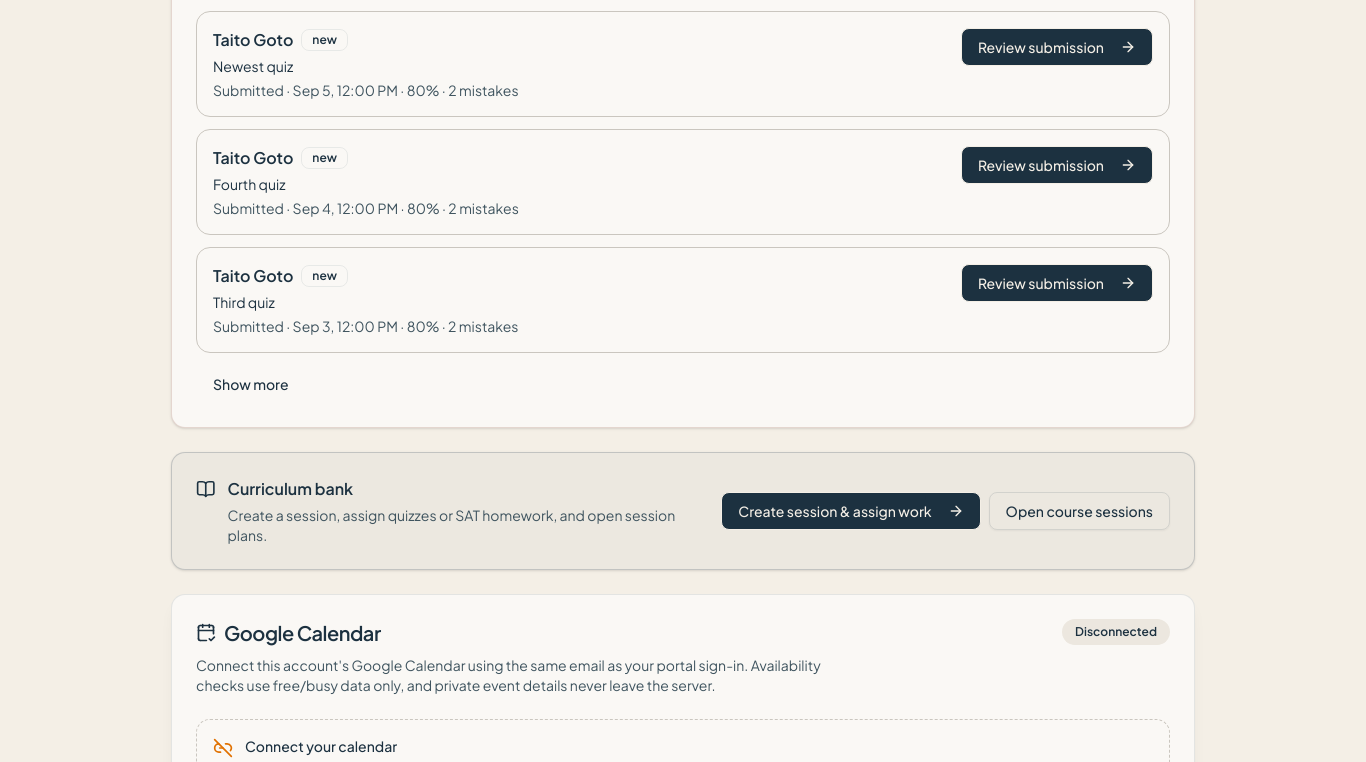
Test case: authenticated role dashboard flows › shows the three newest tutor submission alerts and a Show more control when more exist
(page scrolled)
Expected: the element with test id "submission-alert-attempt-newest" is shown, [196,11,1170,117]
Expected: the element with test id "submission-alert-attempt-4" is shown, [196,129,1170,235]
Click the button with test id "assignment-notifications-show-more" at (251, 384), box [196,365,306,403]
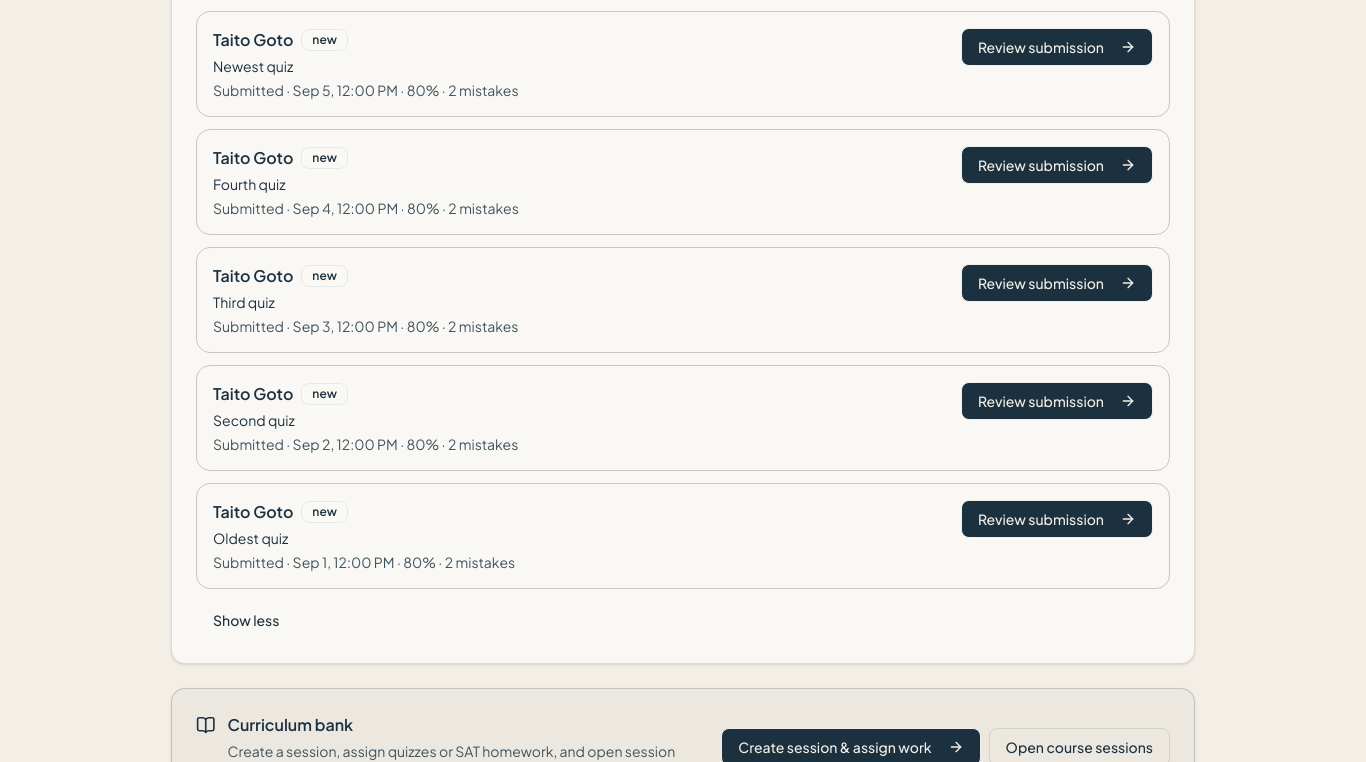
Now the element with test id "submission-alert-attempt-2" is shown, box [196,365,1170,471]
Now the element with test id "submission-alert-attempt-oldest" is shown, box [196,483,1170,589]
Now the button with test id "assignment-notifications-show-more" reads "Show less"
Click the button with test id "assignment-notifications-show-more" at (246, 620), box [196,601,296,639]
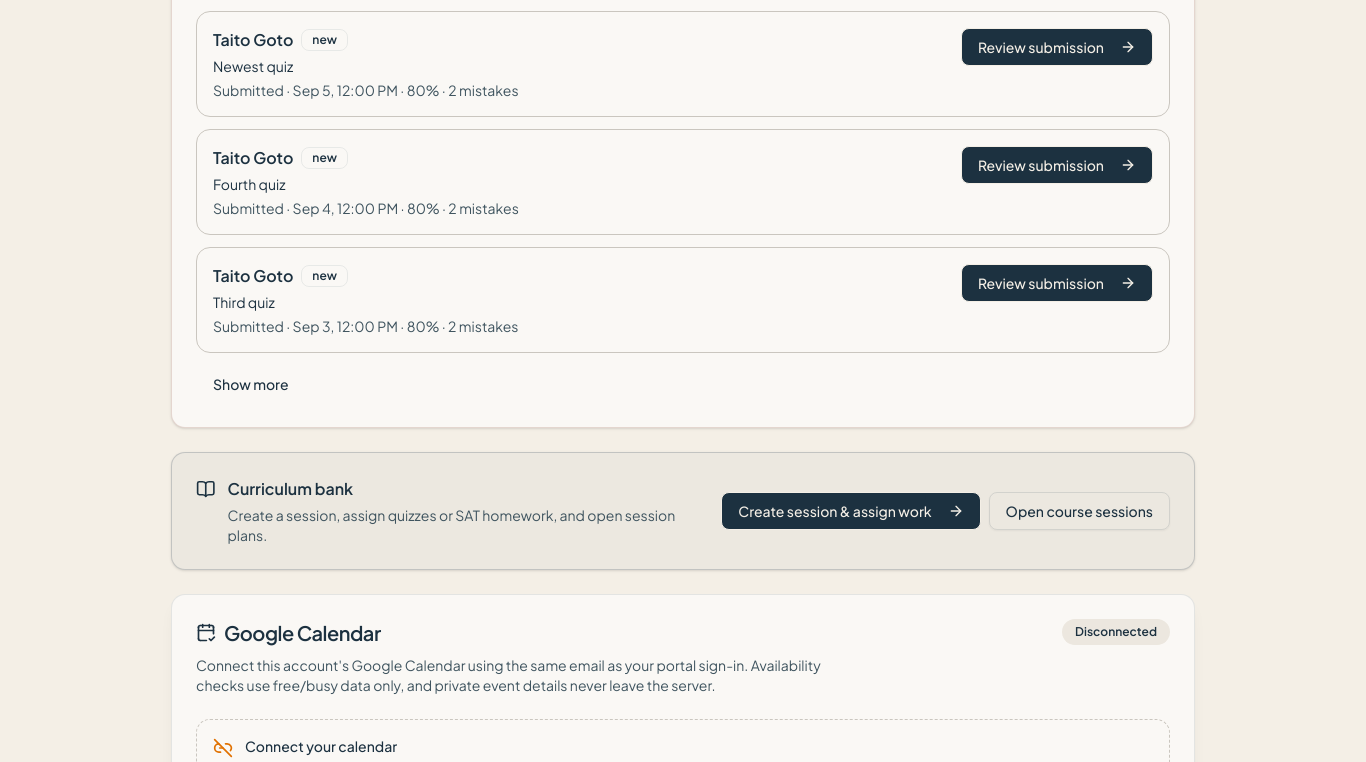
Now the element with test id "submission-alert-attempt-oldest" is gone
Now the button with test id "assignment-notifications-show-more" reads "Show more", box [196,365,306,403]
